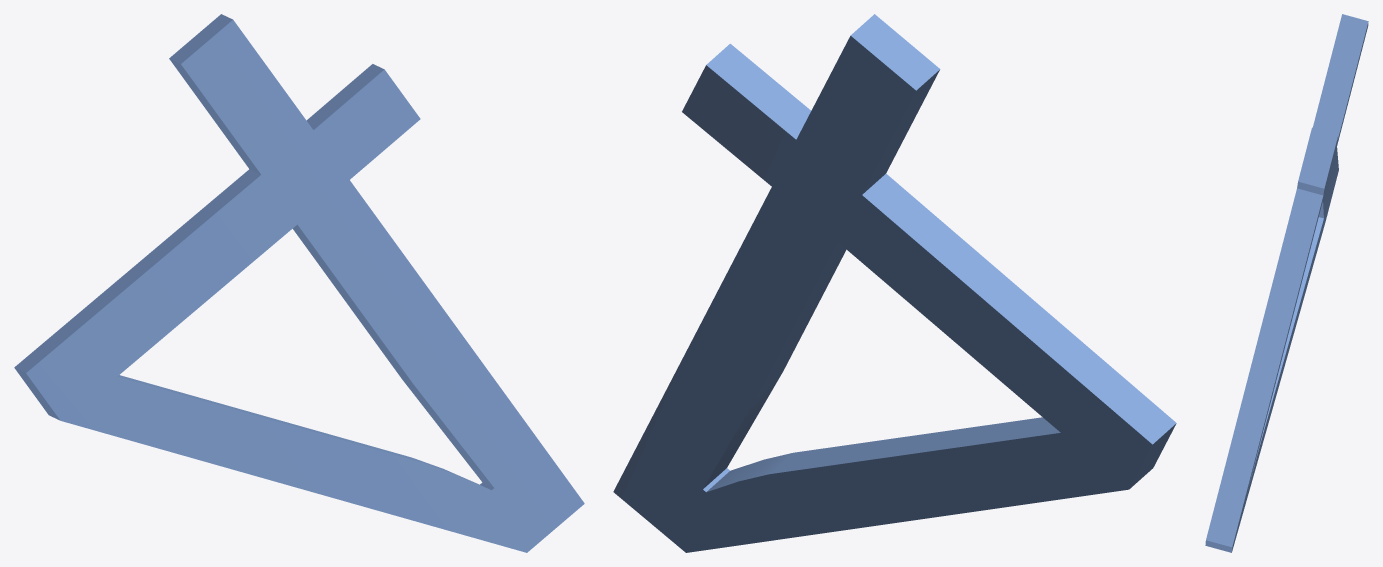
The model's file is Number_4.gltf.
3 renders of one model, left to right at view 1: azimuth 30°, elevation 25°; view 2: azimuth 150°, elevation 25°; view 3: azimuth 270°, elevation 25°, orthographic. The views are drawn at different scales.
Parts seen in each view (by area): view 1: Sub_6_Cell_3_2_Number_4; view 2: Sub_6_Cell_3_2_Number_4; view 3: Sub_6_Cell_3_2_Number_4.
Boxes of the visible parts, left/top/right/bottom form: Sub_6_Cell_3_2_Number_4: left=14, top=14, right=584, bottom=552; Sub_6_Cell_3_2_Number_4: left=613, top=14, right=1176, bottom=552; Sub_6_Cell_3_2_Number_4: left=1205, top=14, right=1368, bottom=552.
Size of the model in its own units: 0.0226 by 0.023 by 0.00757.
